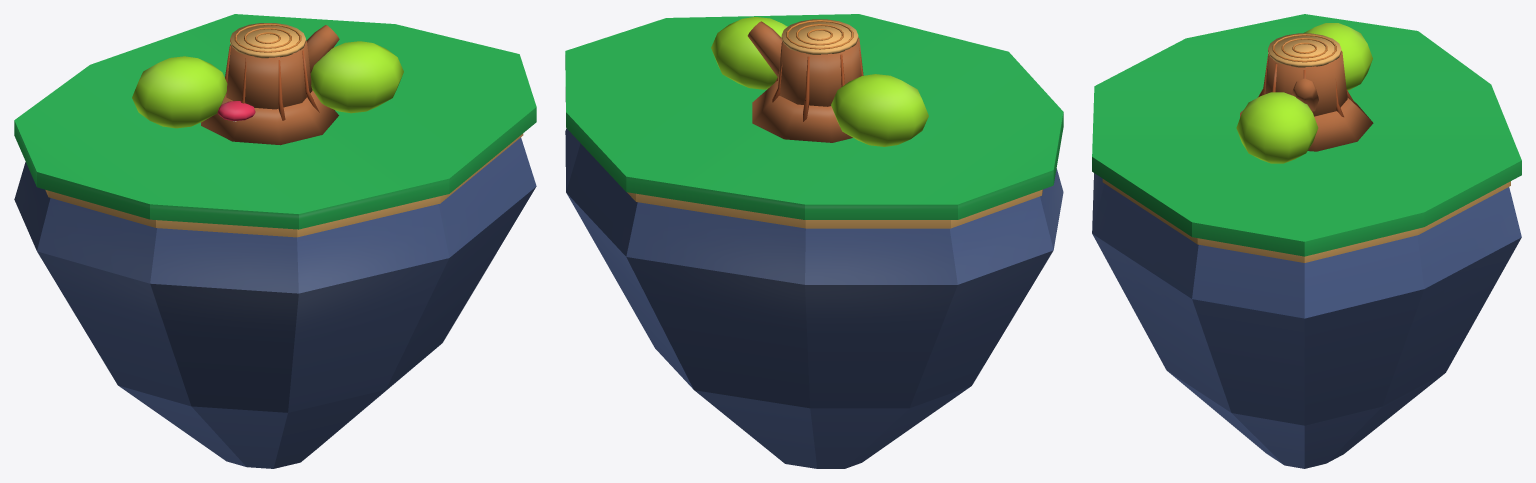
File: FloatingIsletC.fbx
The picture shows the model from 3 angles, left to right: view 1: azimuth 30°, elevation 25°; view 2: azimuth 150°, elevation 25°; view 3: azimuth 270°, elevation 25°; orthographic projection. The views are drawn at different scales.
Parts seen in each view (by area): view 1: FloatingIsletC; view 2: FloatingIsletC; view 3: FloatingIsletC.
Boxes of the visible parts, x1,y1,x2,y2 form: FloatingIsletC: [14, 14, 536, 468]; FloatingIsletC: [565, 14, 1063, 468]; FloatingIsletC: [1092, 14, 1521, 468].
Bounding box in the file's own units: 19.72 × 16.15 × 15.72.
1 material, 1 textured.
